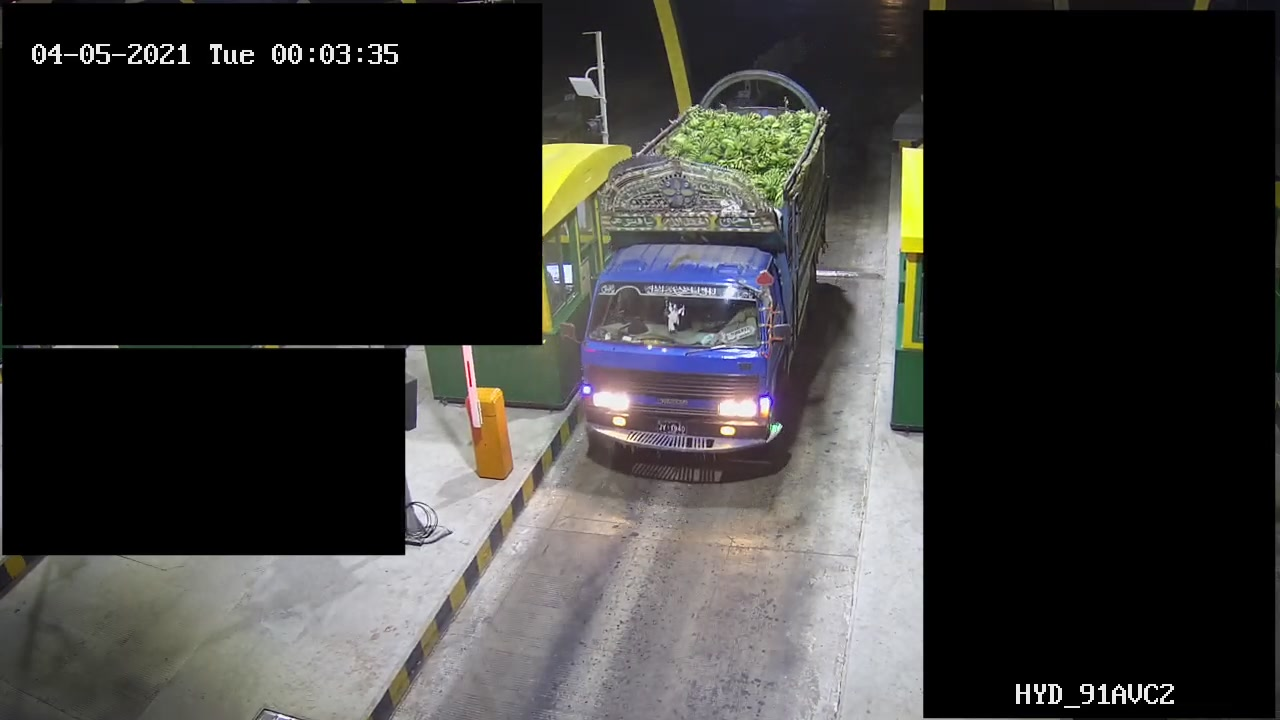F5: (570, 62, 846, 477)
